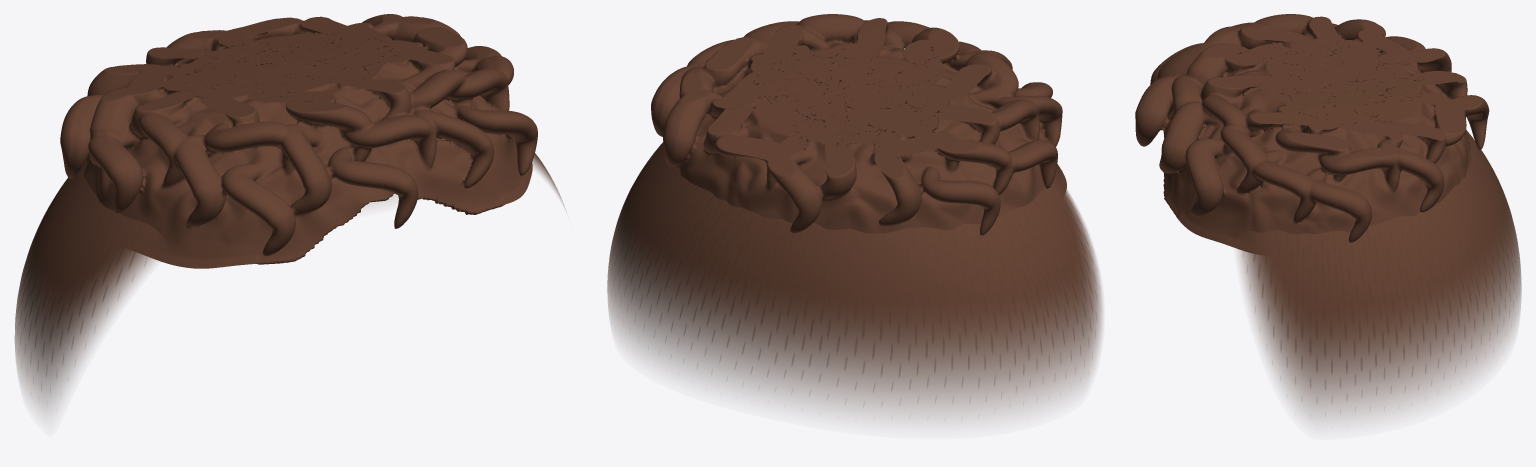
File: Masculine-curly-top-bucket258-hair.glb
3 renders of one model, left to right at view 1: azimuth 30°, elevation 25°; view 2: azimuth 150°, elevation 25°; view 3: azimuth 270°, elevation 25°, orthographic. The views are drawn at different scales.
Visible parts, largest first — view 1: 226 hair / Hair252 / sculpted curl groups, 226 hair / Hair258 / smooth side fade, 226 hair / Hair258 / directional fade marks; view 2: 226 hair / Hair258 / smooth side fade, 226 hair / Hair252 / sculpted curl groups, 226 hair / Hair258 / directional fade marks; view 3: 226 hair / Hair252 / sculpted curl groups, 226 hair / Hair258 / smooth side fade, 226 hair / Hair258 / directional fade marks.
Part boxes in pixels (bbox=[...]): 226 hair / Hair252 / sculpted curl groups: bbox=[60, 14, 537, 268]; 226 hair / Hair258 / smooth side fade: bbox=[15, 59, 566, 412]; 226 hair / Hair258 / directional fade marks: bbox=[15, 157, 534, 387]; 226 hair / Hair258 / smooth side fade: bbox=[607, 87, 1102, 418]; 226 hair / Hair252 / sculpted curl groups: bbox=[651, 14, 1066, 235]; 226 hair / Hair258 / directional fade marks: bbox=[616, 142, 1097, 391]; 226 hair / Hair252 / sculpted curl groups: bbox=[1135, 14, 1489, 254]; 226 hair / Hair258 / smooth side fade: bbox=[1236, 75, 1521, 420]; 226 hair / Hair258 / directional fade marks: bbox=[1241, 132, 1516, 400].
Bounding box in the file's own units: 0.9705 × 0.6147 × 0.7492.
